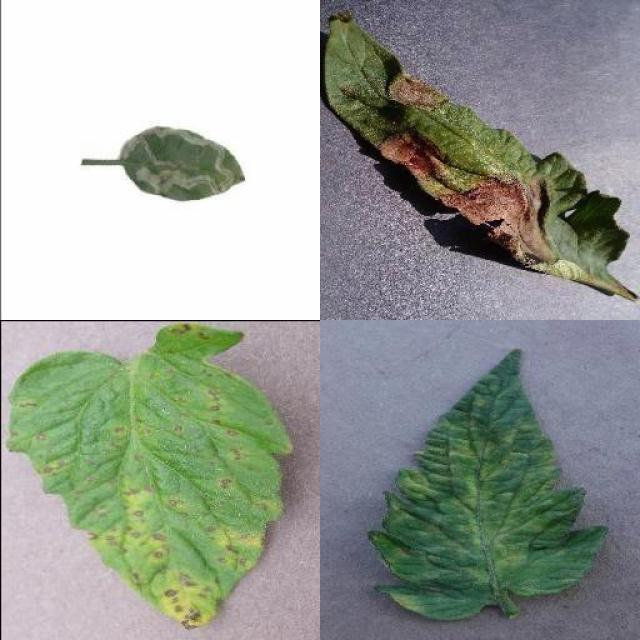Late Blight: (326, 9, 635, 305)
Septoria: (5, 320, 291, 628)
